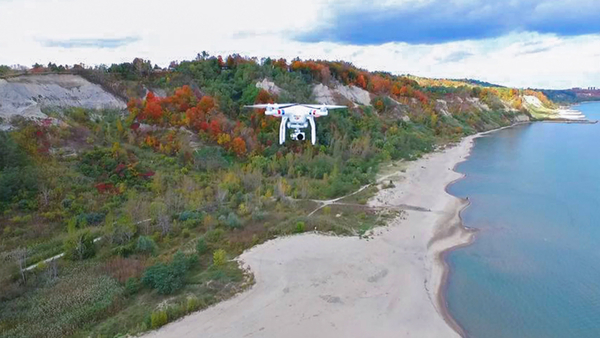drone: (239, 99, 351, 149)
